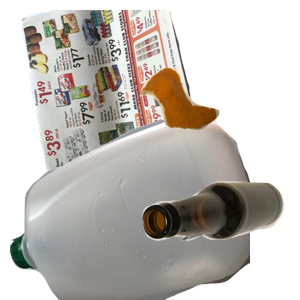glass: (140, 179, 300, 300)
paper: (19, 10, 223, 190)
plastic: (10, 120, 250, 300)
trash: (137, 65, 300, 188)
